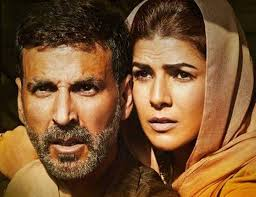Bad: (1, 1, 256, 197)
